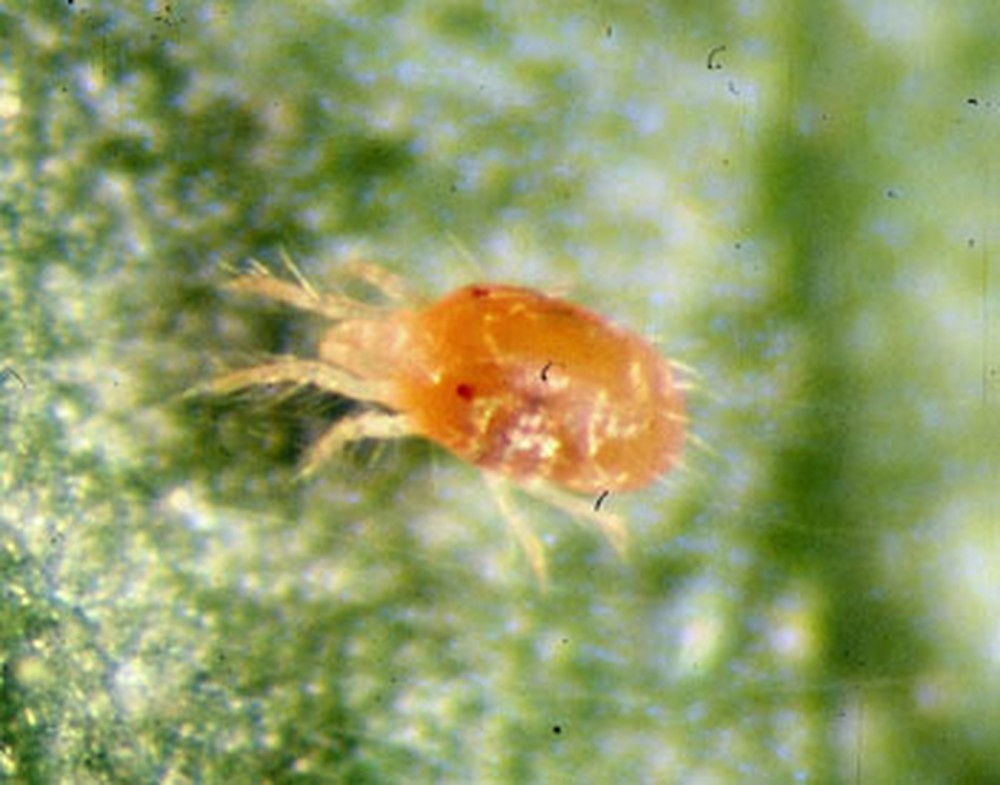Aracnido Rojo: (184, 238, 737, 590)
